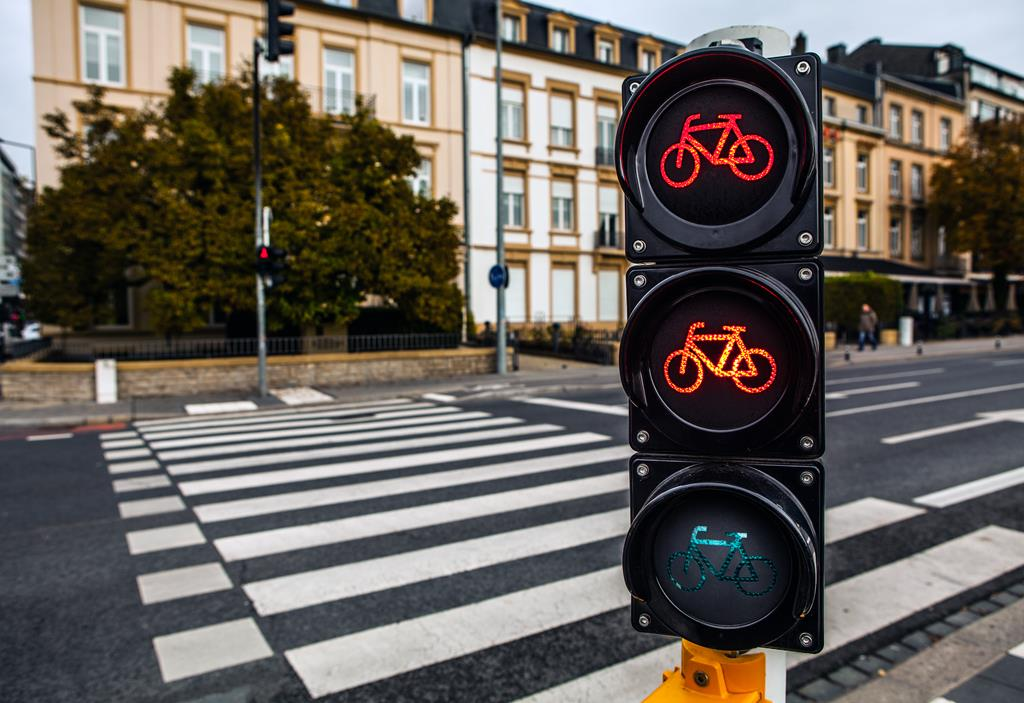Crosswalk: (113, 408, 615, 698)
TraficLight: (608, 49, 840, 651)
